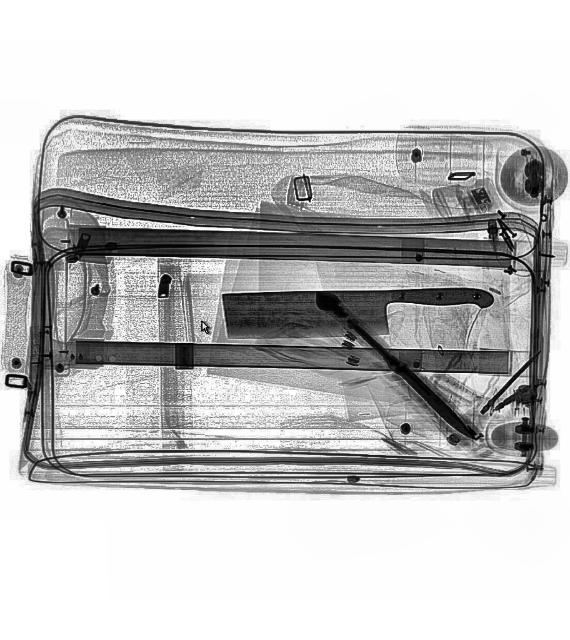Knife: (222, 288, 494, 336)
